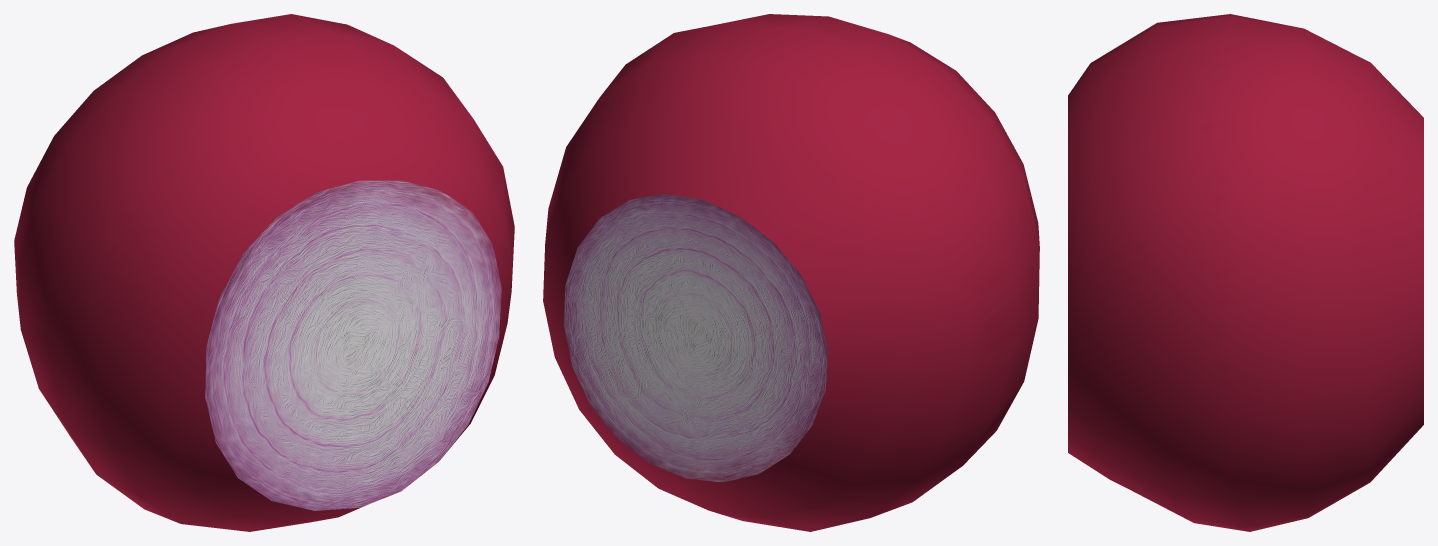
File: onion.fbx
The picture shows the model from 3 angles, left to right: view 1: azimuth 30°, elevation 25°; view 2: azimuth 150°, elevation 25°; view 3: azimuth 270°, elevation 25°; orthographic projection. The views are drawn at different scales.
Visible parts, largest first — view 1: Onion; view 2: Onion; view 3: Onion.
Part boxes in pixels (left/top/right/bottom): Onion: left=14, top=14, right=514, bottom=531; Onion: left=543, top=14, right=1039, bottom=531; Onion: left=1068, top=14, right=1423, bottom=531.
Bounding box in the file's own units: 0.1883 × 0.2635 × 0.2745.
1 material, 1 textured.
